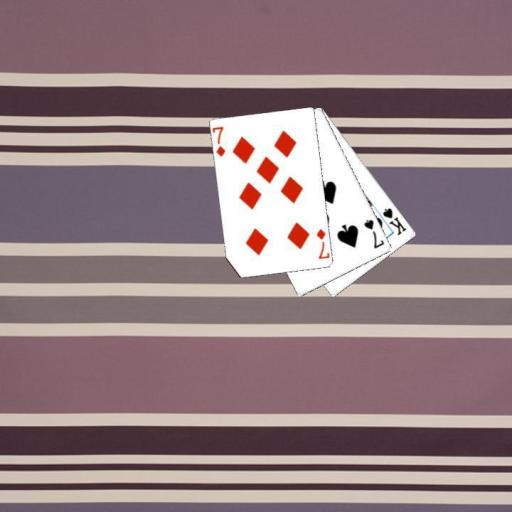card-corner: (380, 205, 408, 237), (361, 216, 386, 250), (314, 225, 330, 261), (211, 124, 227, 158)
